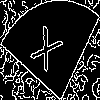X: (25, 25, 64, 81)
